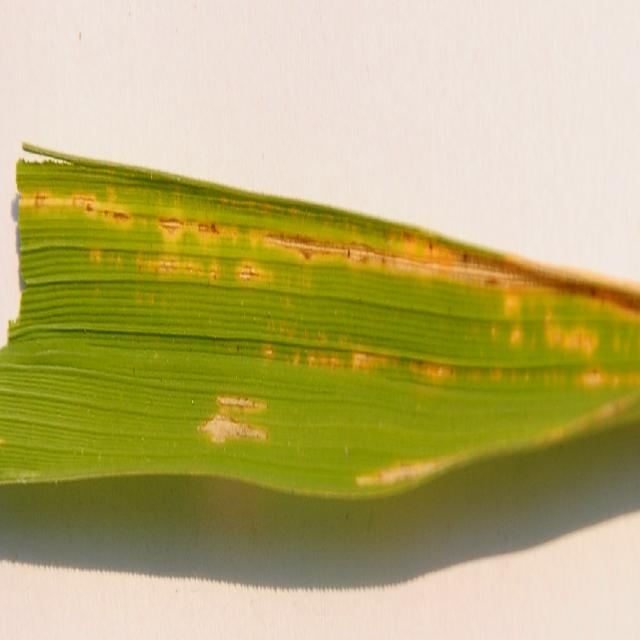leaf blight: (17, 167, 640, 314), (489, 314, 640, 412), (246, 343, 465, 390), (196, 376, 278, 459), (354, 452, 480, 491)
